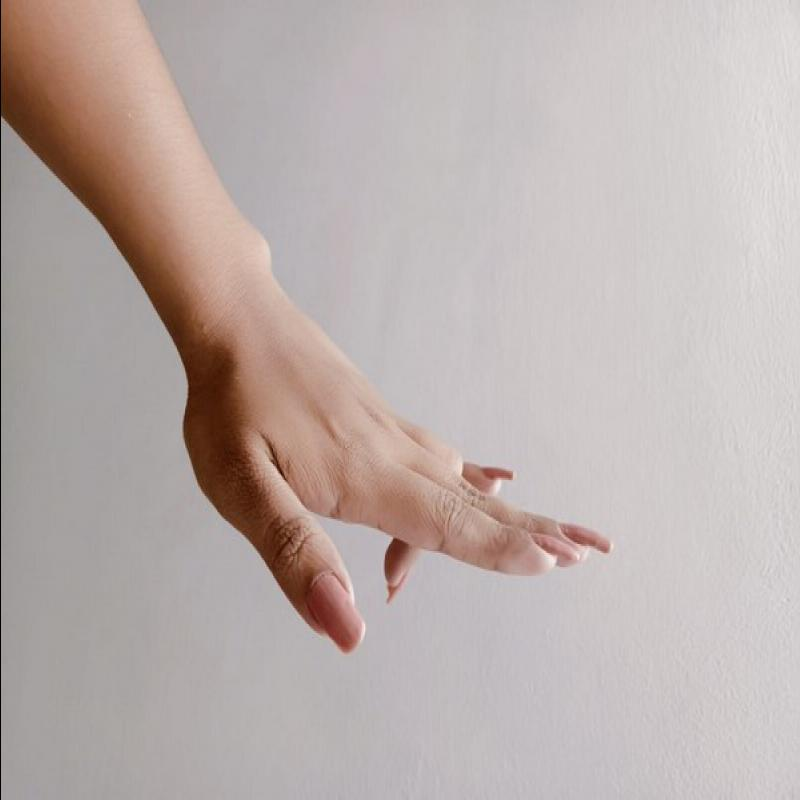Pathaaka: (159, 317, 619, 664)
